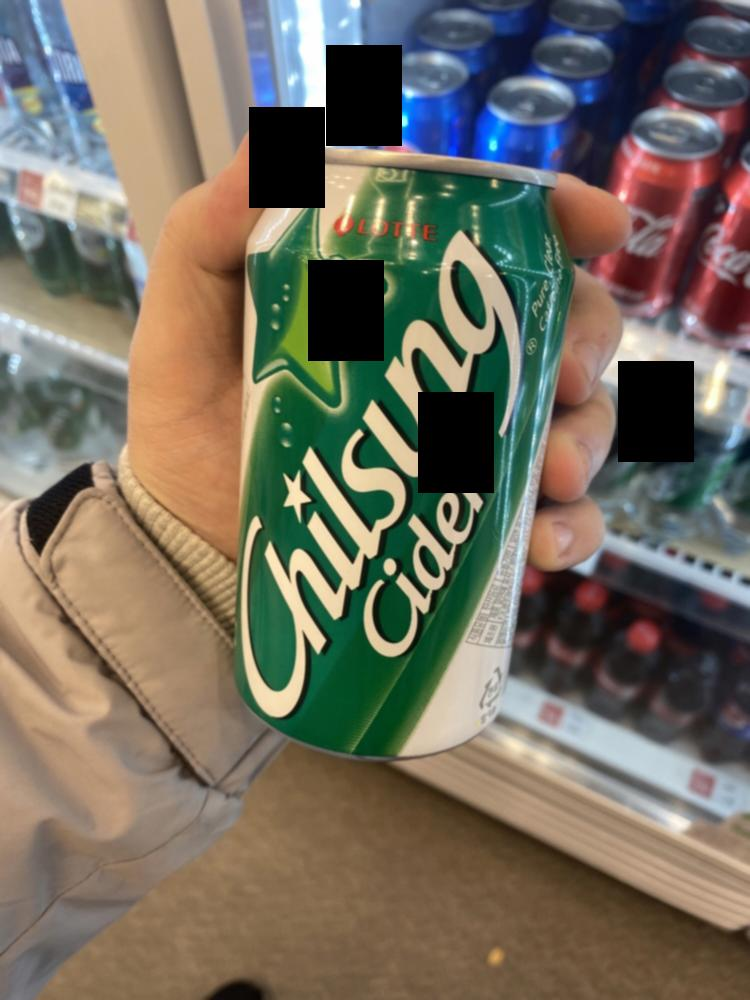chilsungcider: (228, 128, 553, 766)
